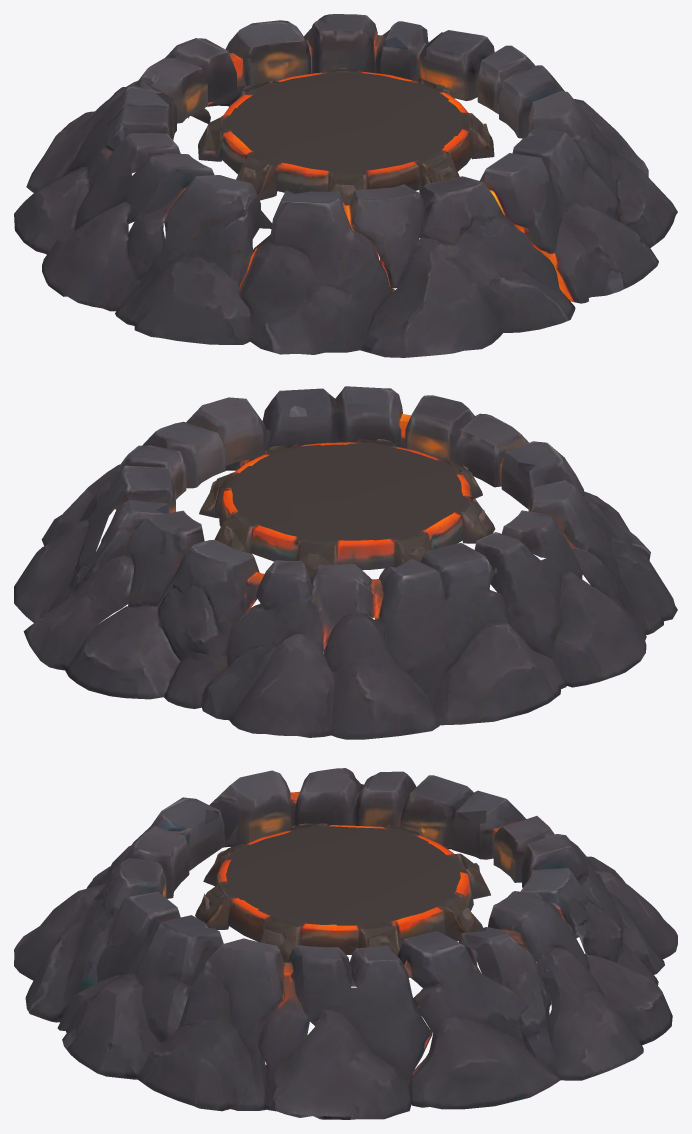
Rendered from SM_Tripo_InfernoGeyserVentBase.glb.
3 views of the same model, one above another, from view 1: azimuth 30°, elevation 25°; view 2: azimuth 150°, elevation 25°; view 3: azimuth 270°, elevation 25° (orthographic).
Visible parts, largest first — view 1: SM_Tripo_InfernoGeyserVentBase_LOD0; view 2: SM_Tripo_InfernoGeyserVentBase_LOD0; view 3: SM_Tripo_InfernoGeyserVentBase_LOD0.
Boxes of the visible parts, <box> form: SM_Tripo_InfernoGeyserVentBase_LOD0: <box>14,14,677,357</box>; SM_Tripo_InfernoGeyserVentBase_LOD0: <box>14,386,677,739</box>; SM_Tripo_InfernoGeyserVentBase_LOD0: <box>14,768,677,1119</box>.
Bounding box in the file's own units: 6.72 × 1.31 × 6.62.
1 material, 1 textured.
